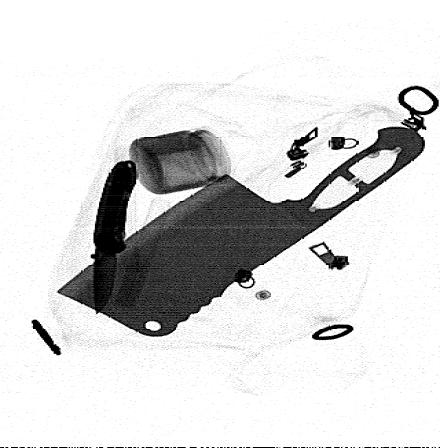Knife: (56, 126, 427, 337), (92, 159, 138, 316)
